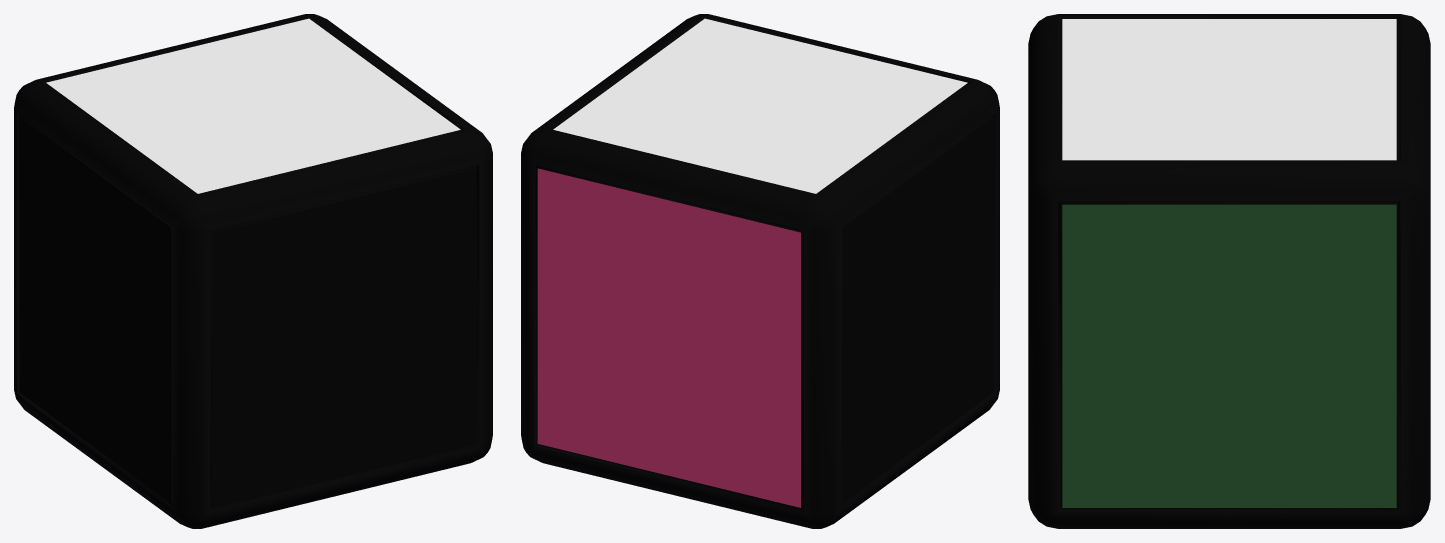
Rendered from singlecube3.gltf.
3 views of the same model, side by side, from view 1: azimuth 30°, elevation 25°; view 2: azimuth 150°, elevation 25°; view 3: azimuth 270°, elevation 25° (orthographic). The views are drawn at different scales.
Parts seen in each view (by area): view 1: Cube.028; view 2: Cube.028; view 3: Cube.028.
Part boxes in pixels (x1,y1,x2,y2): Cube.028: [14, 14, 492, 528]; Cube.028: [521, 14, 999, 528]; Cube.028: [1028, 14, 1430, 528].
Bounding box in the file's own units: 2 × 2 × 2.
